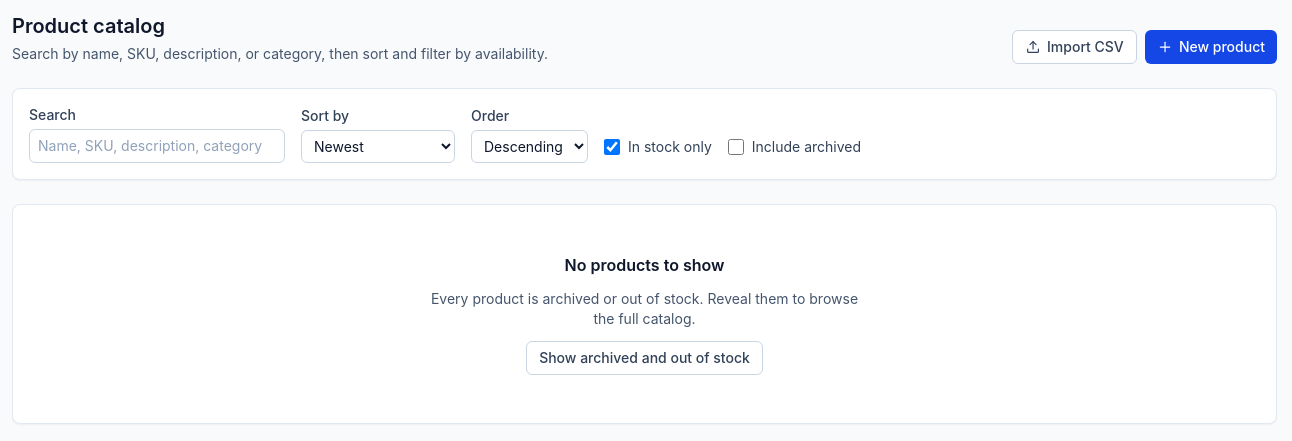
CatalogPage › reveals unavailable products from the empty state
Click the button "Show archived and out of stock". click: (644, 358)
box: [526, 341, 763, 375]
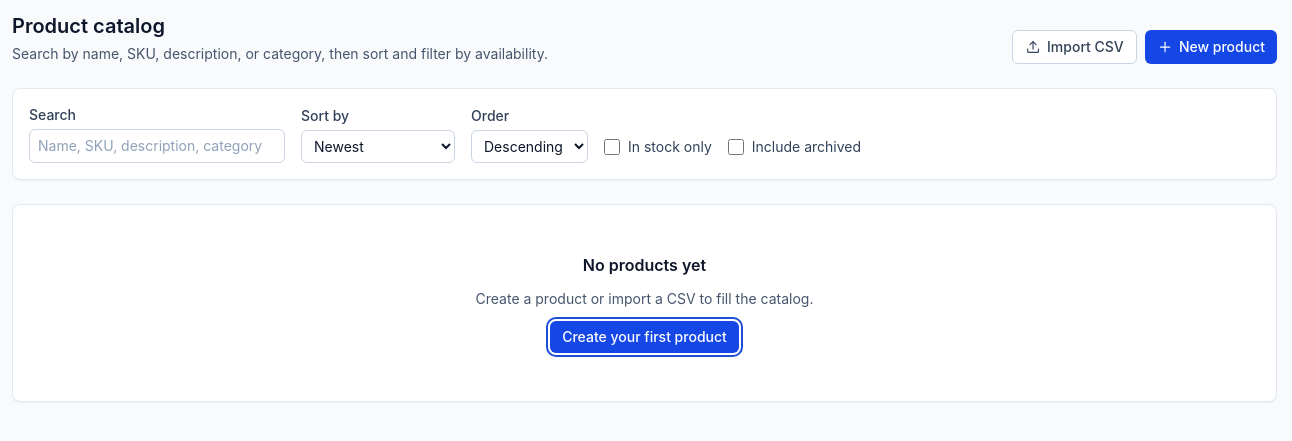
Check: the button "Create your first product" is shown, box [550, 321, 739, 353]
Check: the checkbox labelled "In stock only" is not checked, box [604, 139, 620, 155]
